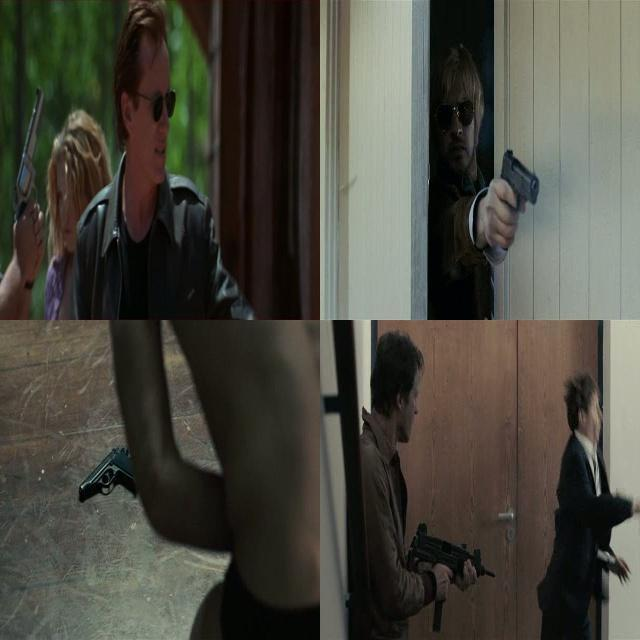gun-knife-thesis - v11 Yolov5 augmented: (396, 523, 486, 633), (10, 82, 49, 268), (487, 148, 540, 259), (74, 438, 145, 516)
